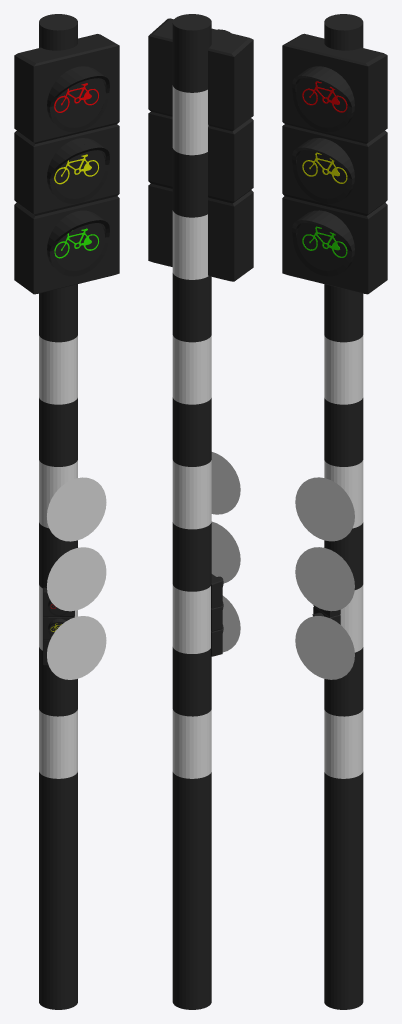
File: gamelab_traffic_lights.fbx
3 renders of one model, left to right at view 1: azimuth 30°, elevation 25°; view 2: azimuth 150°, elevation 25°; view 3: azimuth 330°, elevation 25°, orthographic.
Visible parts, largest first — view 1: Cube, Cylinder, Circle.002, Cube.001, Plane.002, Plane, Plane.001; view 2: Cylinder, Cube, Circle.002, Cube.001; view 3: Cylinder, Cube, Circle.002, Plane, Plane.002, Plane.001.
Part boxes in pixels (x1,y1,x2,y2): Cube: (14,34,119,294); Cylinder: (39,14,77,1009); Circle.002: (47,477,106,679); Cube.001: (43,587,74,665); Plane.002: (54,228,98,258); Plane: (54,83,98,112); Plane.001: (54,154,98,184); Cylinder: (172,14,211,1009); Cube: (148,18,253,281); Circle.002: (211,452,240,652); Cube.001: (211,574,223,656); Cylinder: (324,14,363,1009); Cube: (282,33,387,294); Circle.002: (295,477,354,679); Plane: (302,81,347,112); Plane.002: (302,226,347,257); Plane.001: (302,152,347,183).
Size of the model in its own units: 94.5 by 1029 by 80.04.
